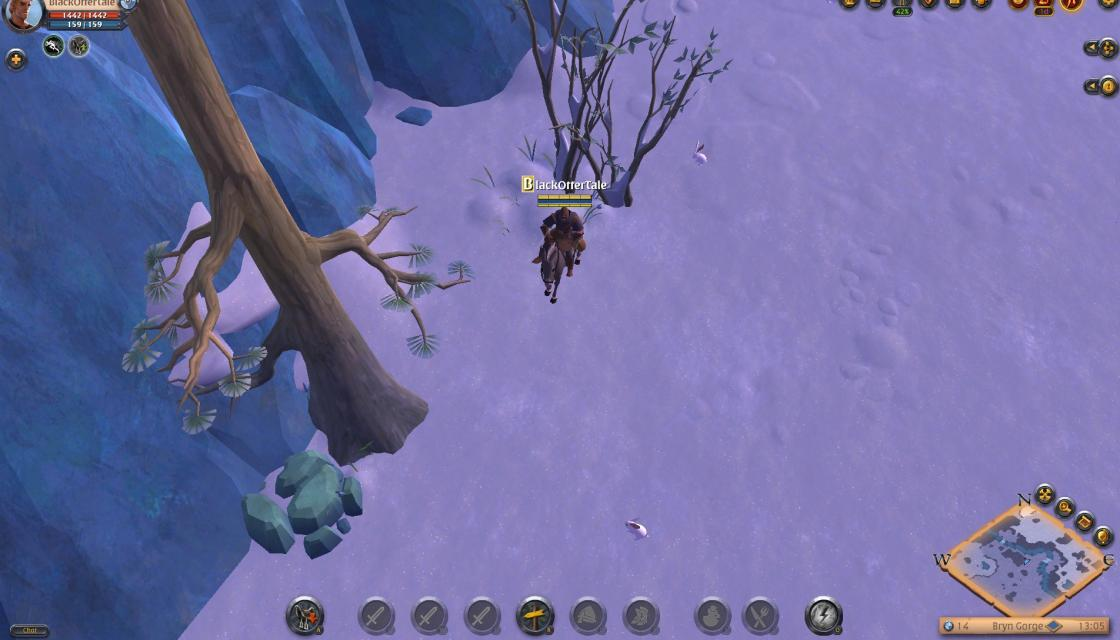sandstone: (240, 446, 366, 558)
